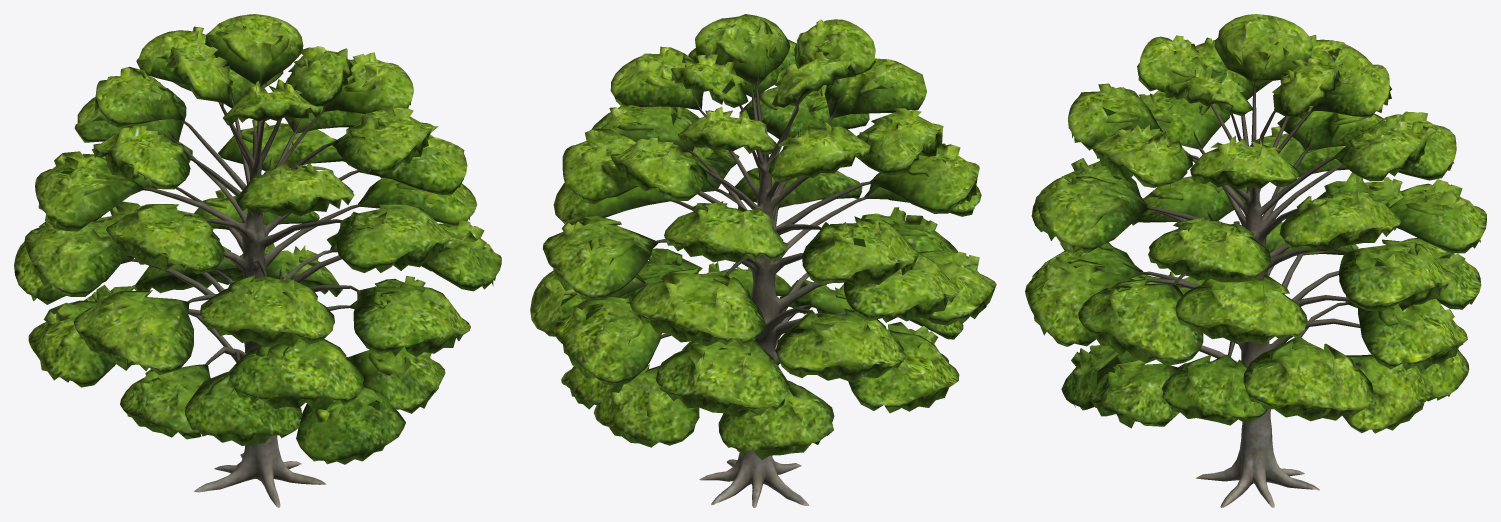
The model's file is broadleaf.glb.
The picture shows the model from 3 angles, left to right: view 1: azimuth 30°, elevation 25°; view 2: azimuth 150°, elevation 25°; view 3: azimuth 270°, elevation 25°; orthographic projection. The views are drawn at different scales.
Visible parts, largest first — view 1: tripo_node_0d3587b3-d94a-4ba7-be40-e195e0c4e5cc; view 2: tripo_node_0d3587b3-d94a-4ba7-be40-e195e0c4e5cc; view 3: tripo_node_0d3587b3-d94a-4ba7-be40-e195e0c4e5cc.
Part boxes in pixels (x1,y1,x2,y2): tripo_node_0d3587b3-d94a-4ba7-be40-e195e0c4e5cc: (14, 14, 501, 507); tripo_node_0d3587b3-d94a-4ba7-be40-e195e0c4e5cc: (530, 14, 996, 507); tripo_node_0d3587b3-d94a-4ba7-be40-e195e0c4e5cc: (1025, 14, 1486, 507).
Bounding box in the file's own units: 0.9438 × 0.9995 × 0.9546.
1 material, 1 textured.
